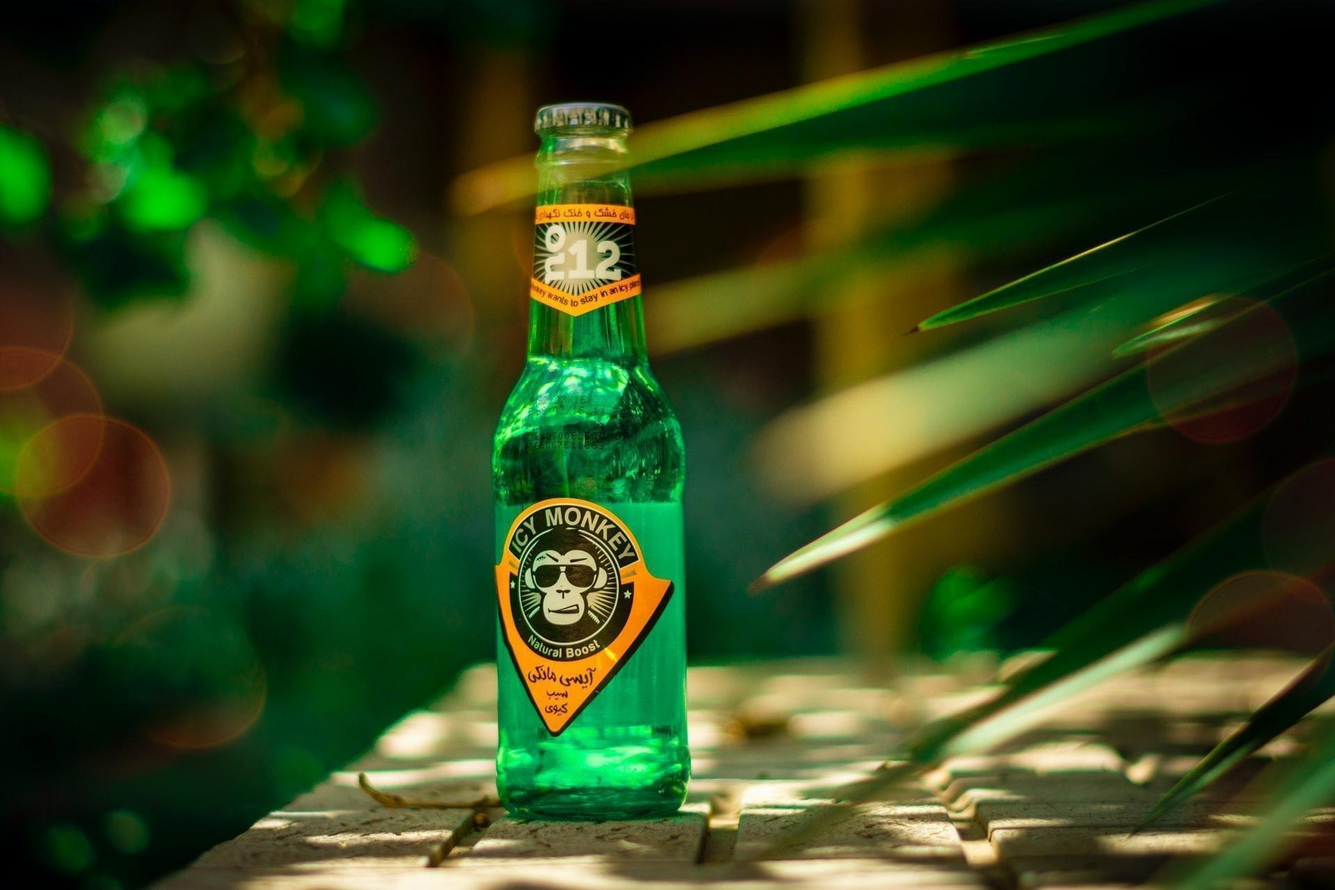bottle-glass: (487, 94, 697, 826)
